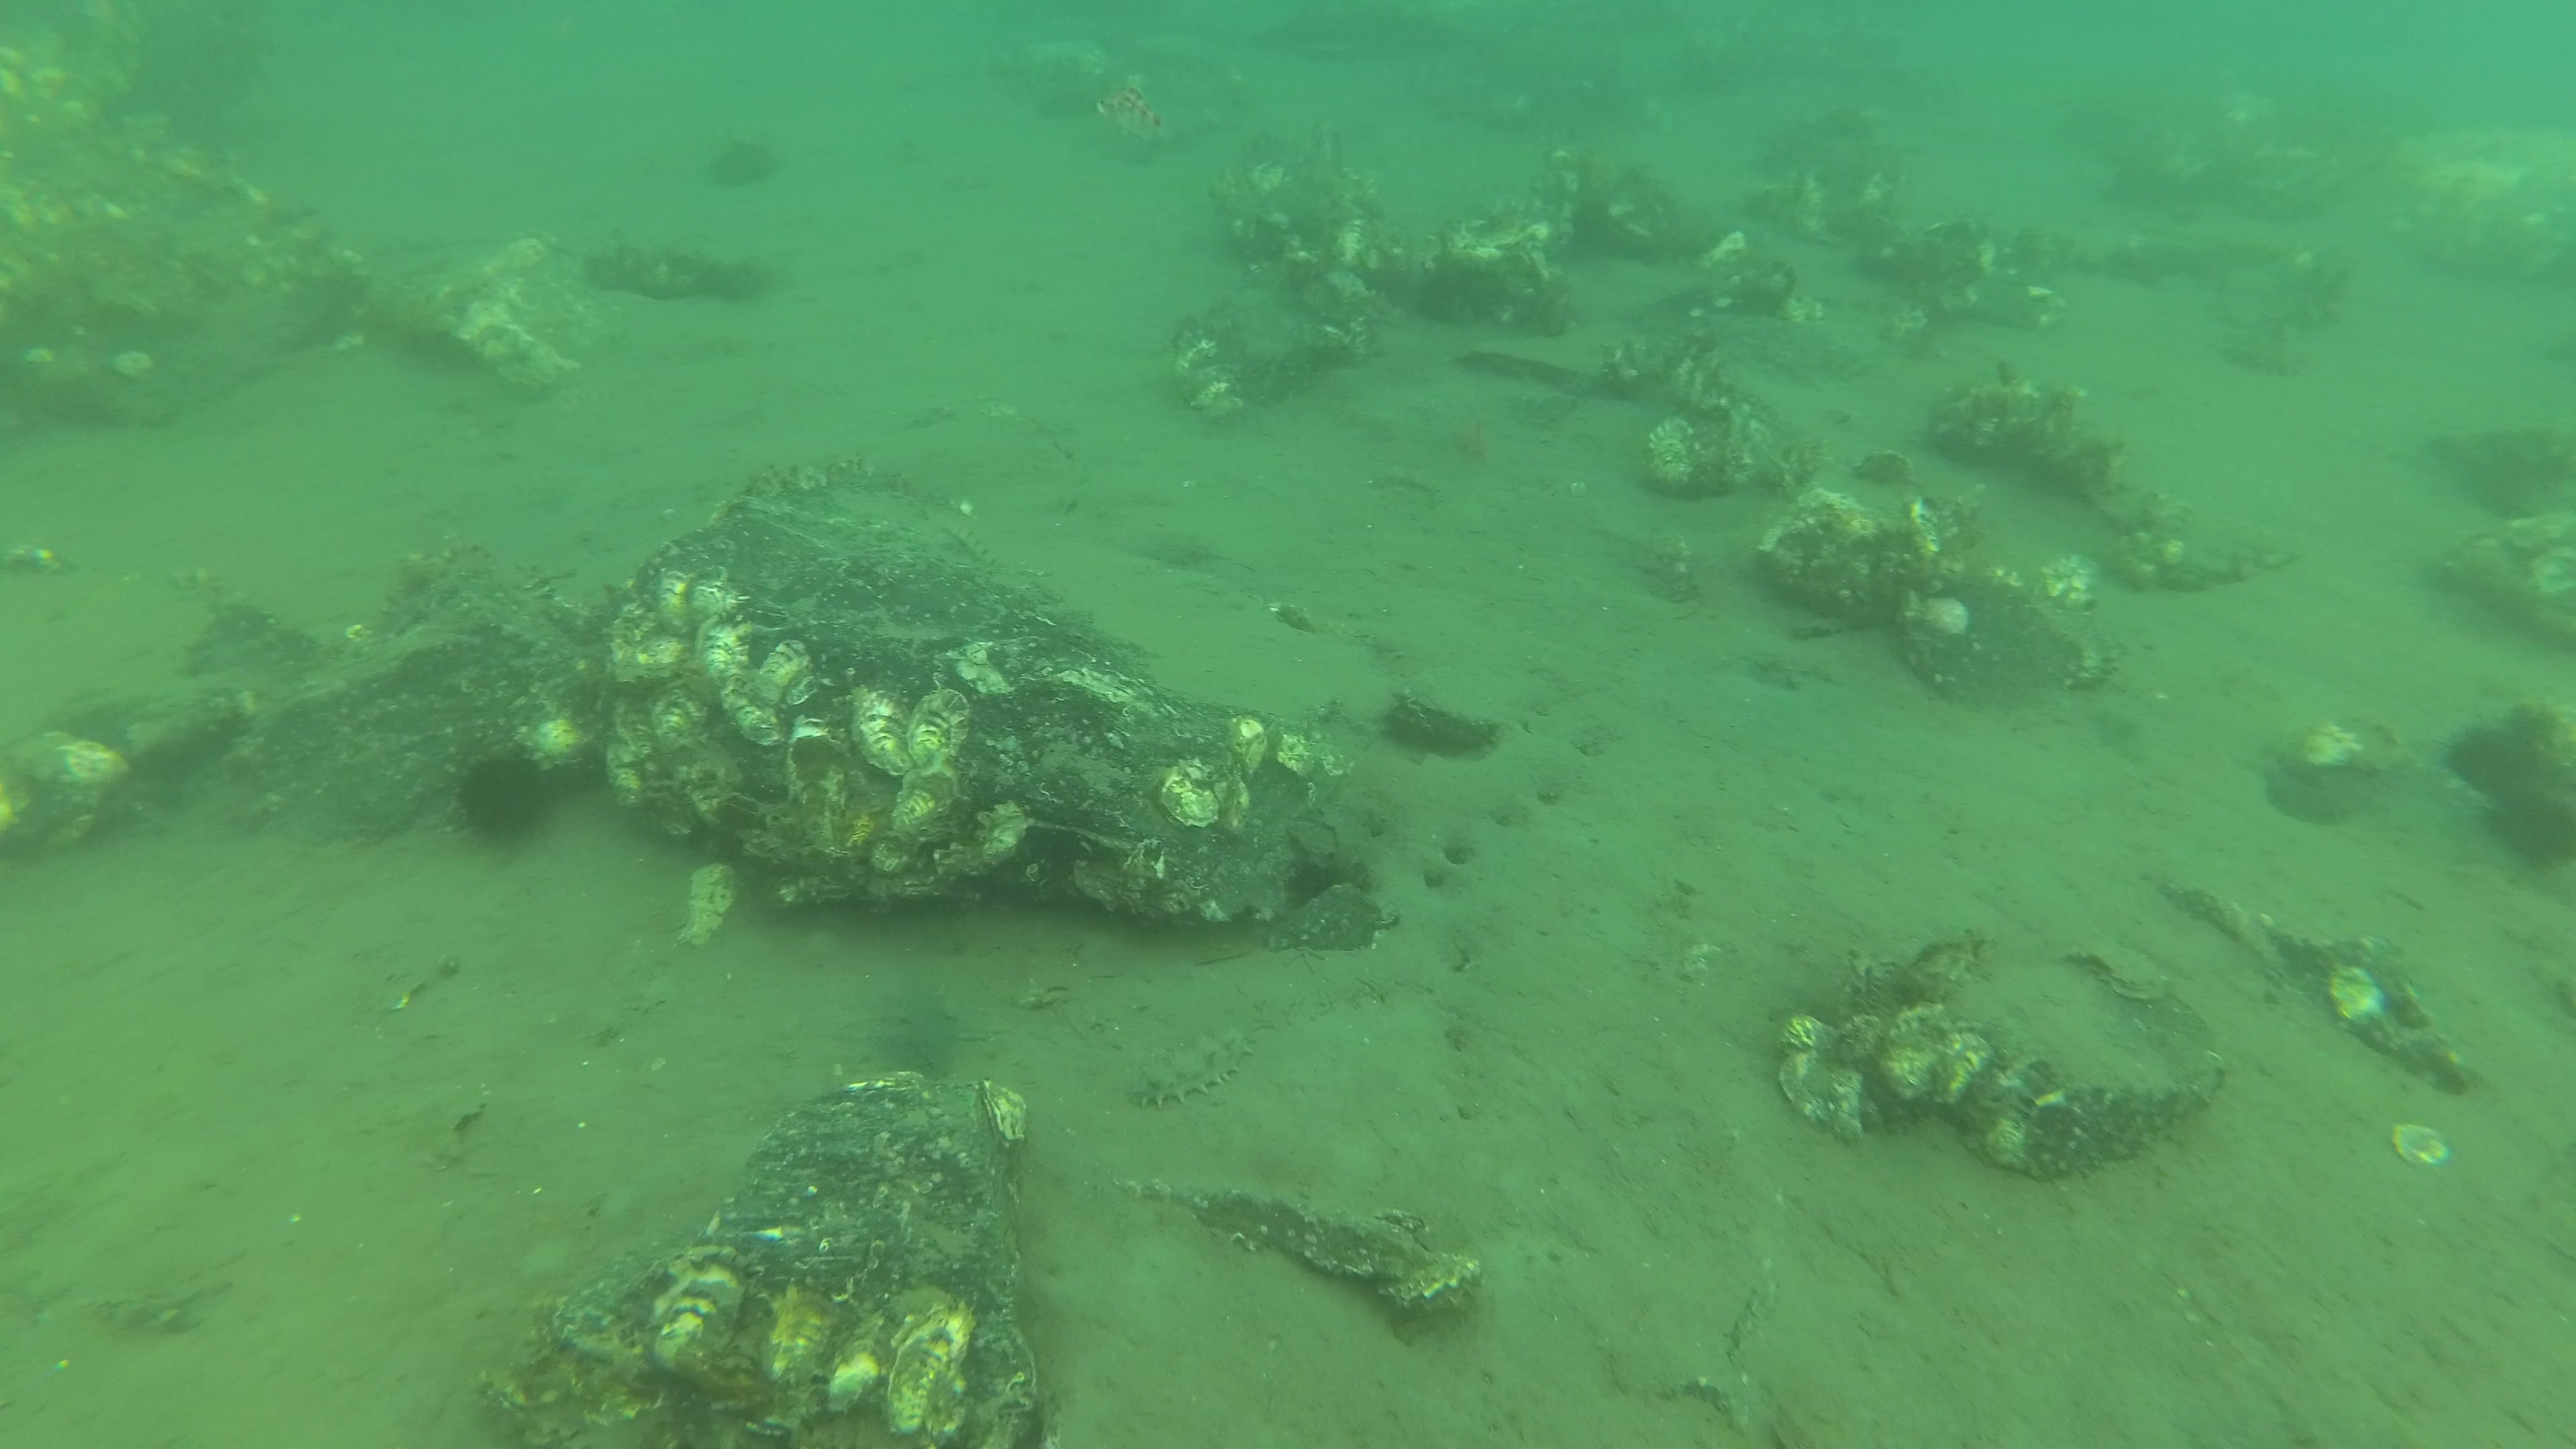echinus: (448, 741, 563, 846)
holothurian: (1127, 1023, 1260, 1109)
